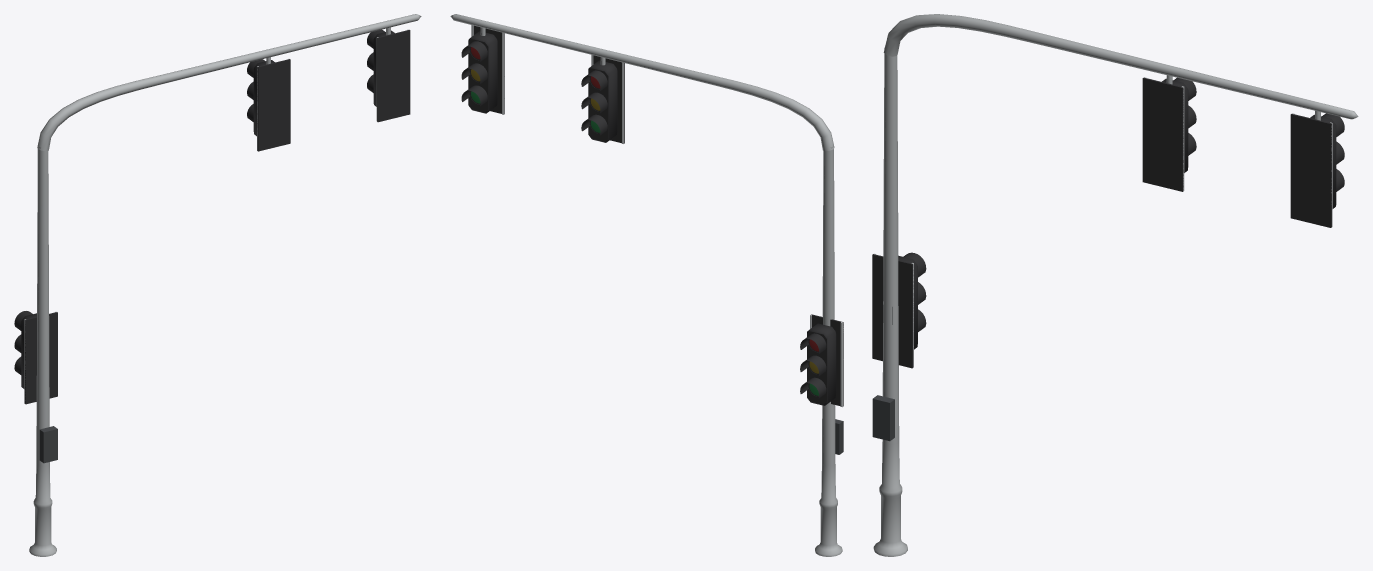
The model's file is traffic_light.glb.
3 renders of one model, left to right at view 1: azimuth 30°, elevation 25°; view 2: azimuth 150°, elevation 25°; view 3: azimuth 330°, elevation 25°, orthographic. The views are drawn at different scales.
Parts seen in each view (by area): view 1: traffic_light; view 2: traffic_light; view 3: traffic_light.
Boxes of the visible parts, left/top/right/bottom form: traffic_light: left=14, top=14, right=421, bottom=556; traffic_light: left=450, top=14, right=843, bottom=556; traffic_light: left=872, top=14, right=1358, bottom=556.
Bounding box in the file's own units: 5.6 × 6.06 × 0.66.
